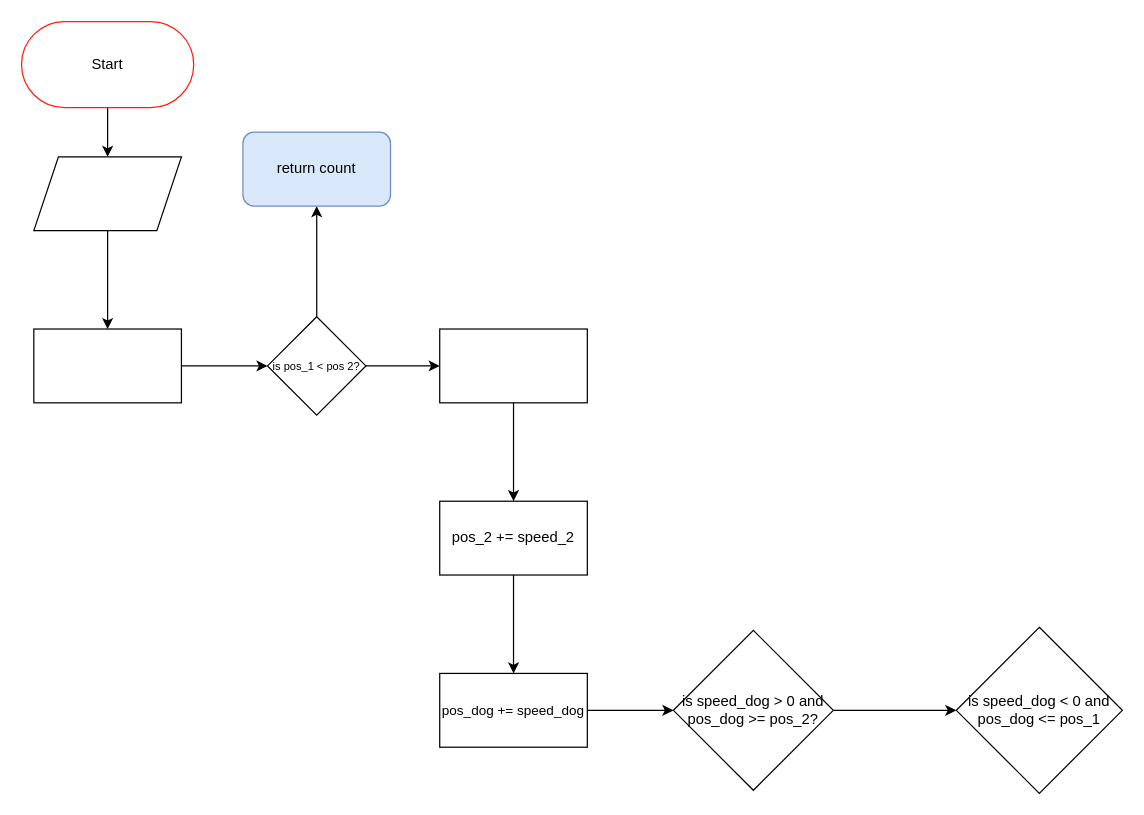
This 1144x815 diagram has some shape labels left out. Each missing label, with the box of its shape:
pos_1 += speed_1: (438, 328, 587, 403)
pos_dog = 0 pos_1 = 0 pos_2 = distance count = 0: (33, 328, 181, 403)
speed_1 speed_2 speed_dog distance: (33, 156, 181, 231)
